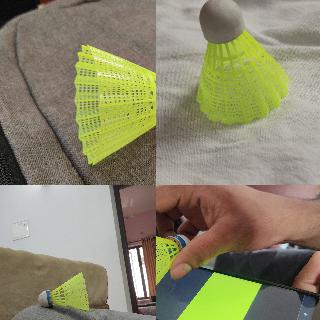shuttlecock: (196, 0, 290, 124), (75, 44, 155, 165), (156, 225, 189, 308), (38, 272, 88, 310)
